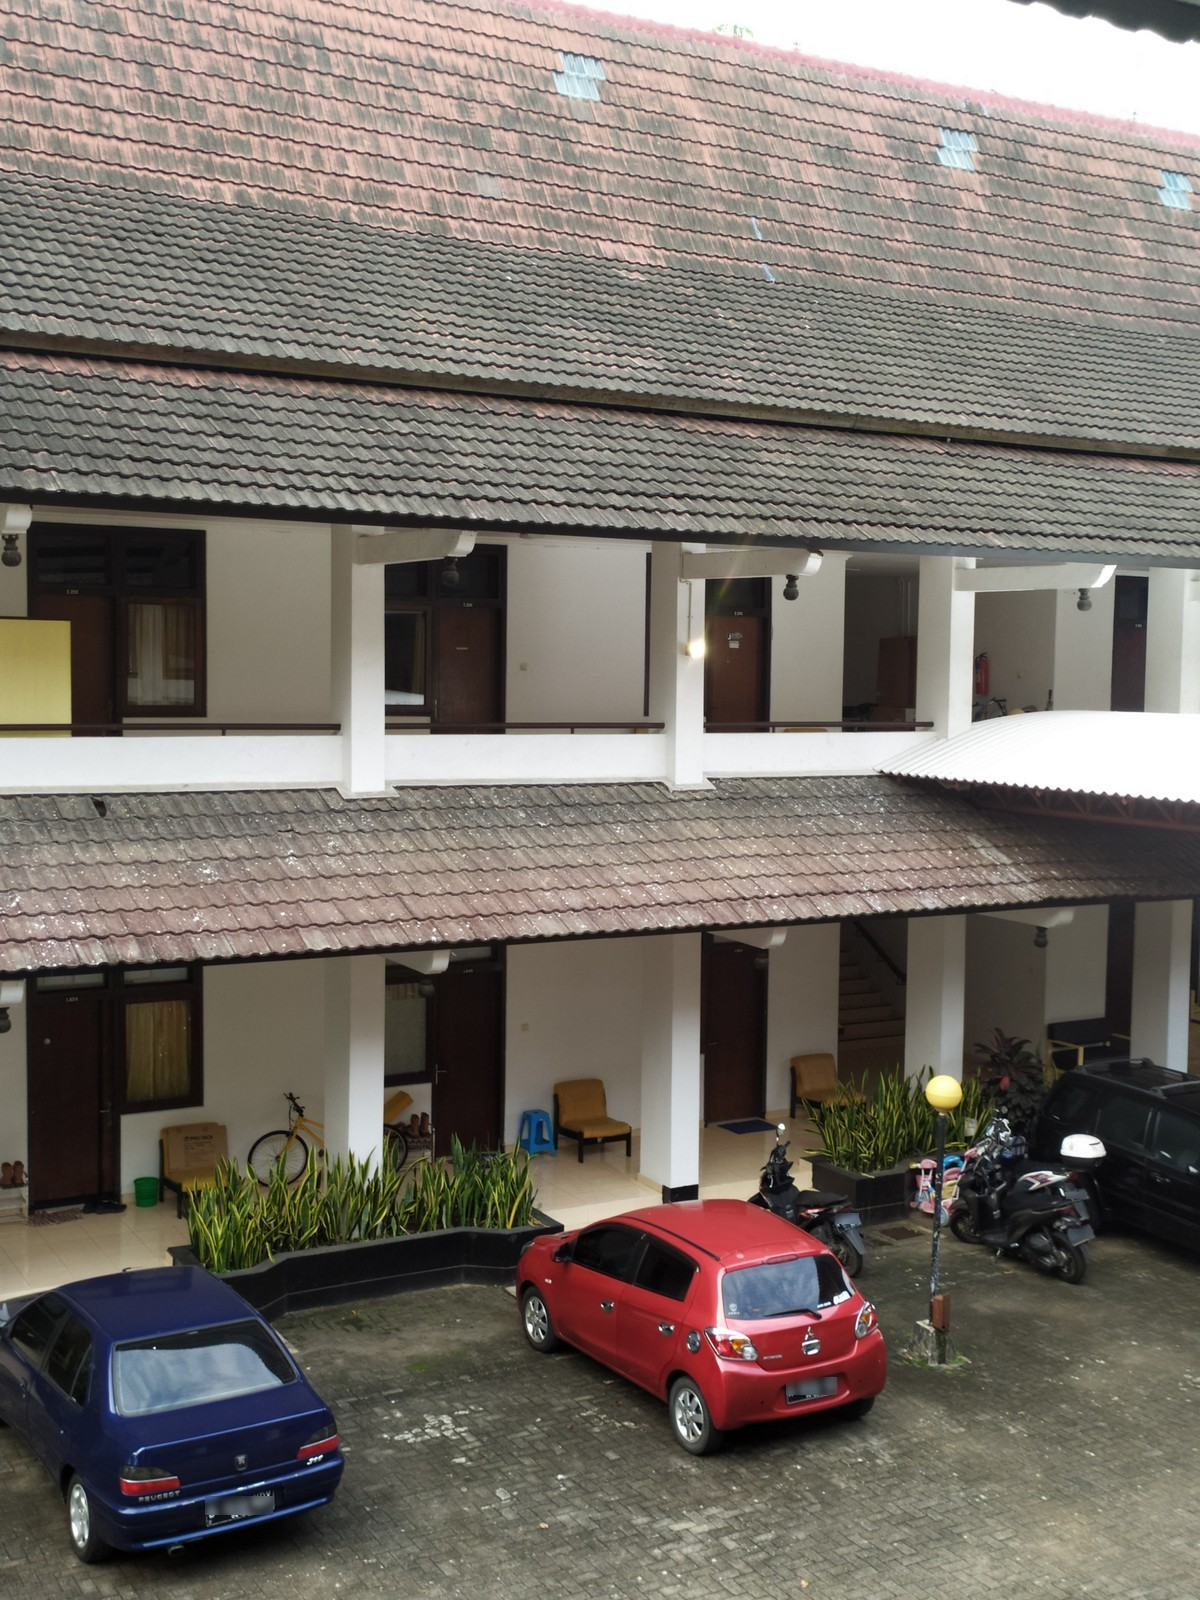concrete column: (626, 932, 717, 1196), (320, 522, 396, 810), (318, 944, 395, 1193), (642, 543, 713, 792), (896, 907, 973, 1117), (908, 551, 984, 758), (1124, 898, 1197, 1089)
